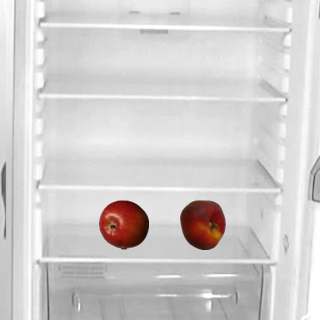Apple Braeburn: (98, 199, 148, 249)
Nectarine Flat: (177, 199, 227, 249)
